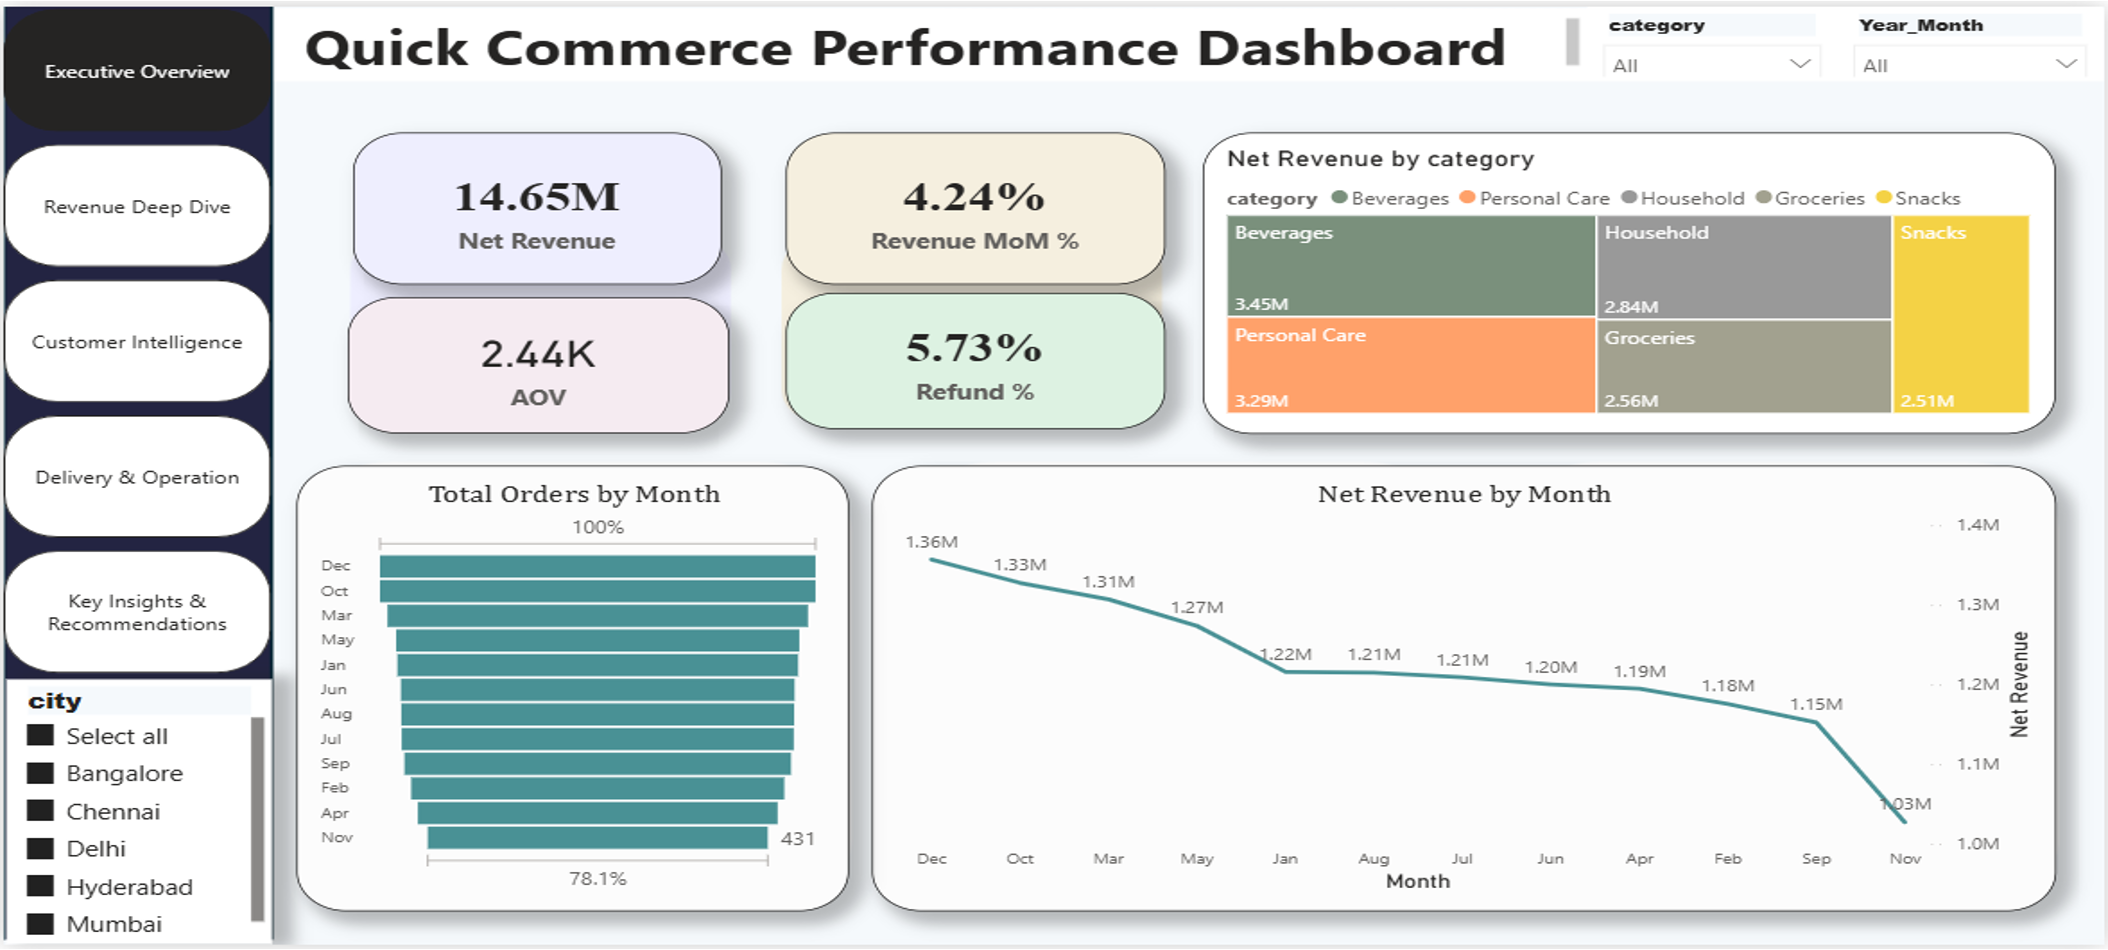

This screenshot's page, from the dashboard's own definition file:
{"tool":"powerbi","page":{"name":"Executive Overview","canvas":[1280,720],"ordinal":0},"visuals":[{"type":"slicer","fields":{"Values":["Date_Table.YearMonth"]},"box":[1118,0,162.3,54.1],"z":0},{"type":"slicer","fields":{"Values":["customers.city"]},"box":[1.6,516.4,162.3,203.3],"z":1000},{"type":"slicer","fields":{"Values":["products.category"]},"box":[965.6,0,152.5,54.1],"z":2000},{"type":"card","fields":{"Values":["Measure.Net Revenue"]},"box":[213.1,96.7,224.6,116.4],"z":3000},{"type":"card","fields":{"Values":["Measure.AOV"]},"box":[209.8,223,232.8,104.9],"z":4000},{"type":"lineChart","fields":{"Y2":["Measure.Net Revenue"],"Category":["Date_Table.Month"]},"box":[530,351.7,721.7,341.7],"z":5000},{"type":"funnel","fields":{"Category":["Date_Table.Month"],"Y":["Measure.Total Orders"]},"box":[178.3,351.7,336.7,341.7],"z":6000},{"type":"card","fields":{"Values":["Measure.Revenue MoM %"]},"box":[477,96.7,231.1,116.4],"z":7000},{"type":"card","fields":{"Values":["Measure.Refund %"]},"box":[477,219.7,231.1,104.9],"z":8000},{"type":"textbox","box":[178.7,1.6,786.9,52.5],"z":9000},{"type":"treemap","fields":{"Group":["products.category"],"Values":["Measure.Net Revenue"]},"box":[731.1,96.7,519.7,231.1],"z":10000},{"type":"pageNavigator","box":[0,1.6,163.9,514.8],"z":11000}]}

Visuals, with their boxes on the page's 1280x720 design canvas (x1, y1, x2, y2). These are canvas units, not pixel positions in the 2108x950 screenshot, which may show the page scaled, cropped or inside an application window:
slicer - Date_Table.YearMonth: x1=1118 y1=0 x2=1280 y2=54
slicer - customers.city: x1=2 y1=516 x2=164 y2=720
slicer - products.category: x1=966 y1=0 x2=1118 y2=54
card - Measure.Net Revenue: x1=213 y1=97 x2=438 y2=213
card - Measure.AOV: x1=210 y1=223 x2=443 y2=328
lineChart - Measure.Net Revenue x Date_Table.Month: x1=530 y1=352 x2=1252 y2=693
funnel - Date_Table.Month x Measure.Total Orders: x1=178 y1=352 x2=515 y2=693
card - Measure.Revenue MoM %: x1=477 y1=97 x2=708 y2=213
card - Measure.Refund %: x1=477 y1=220 x2=708 y2=325
textbox: x1=179 y1=2 x2=966 y2=54
treemap - products.category x Measure.Net Revenue: x1=731 y1=97 x2=1251 y2=328
pageNavigator: x1=0 y1=2 x2=164 y2=516
